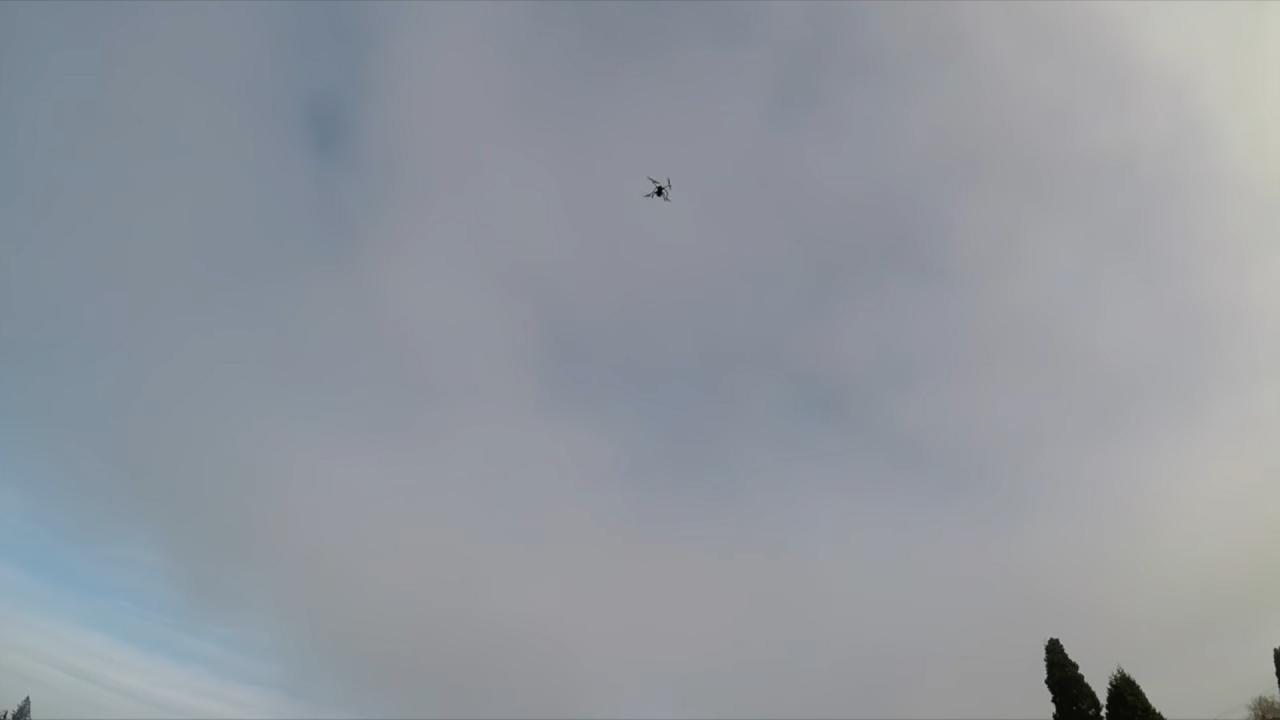Drone: (637, 171, 678, 210)
